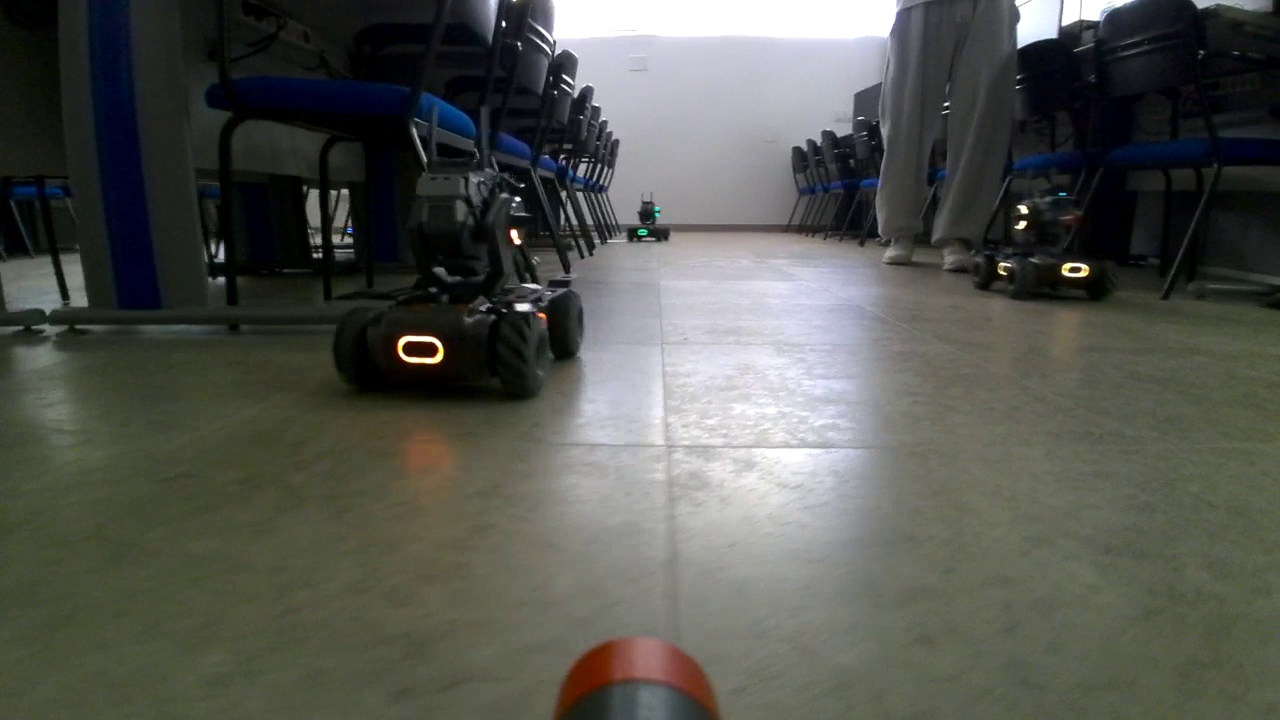robot: (328, 97, 583, 404), (973, 170, 1113, 304), (625, 189, 672, 246)
